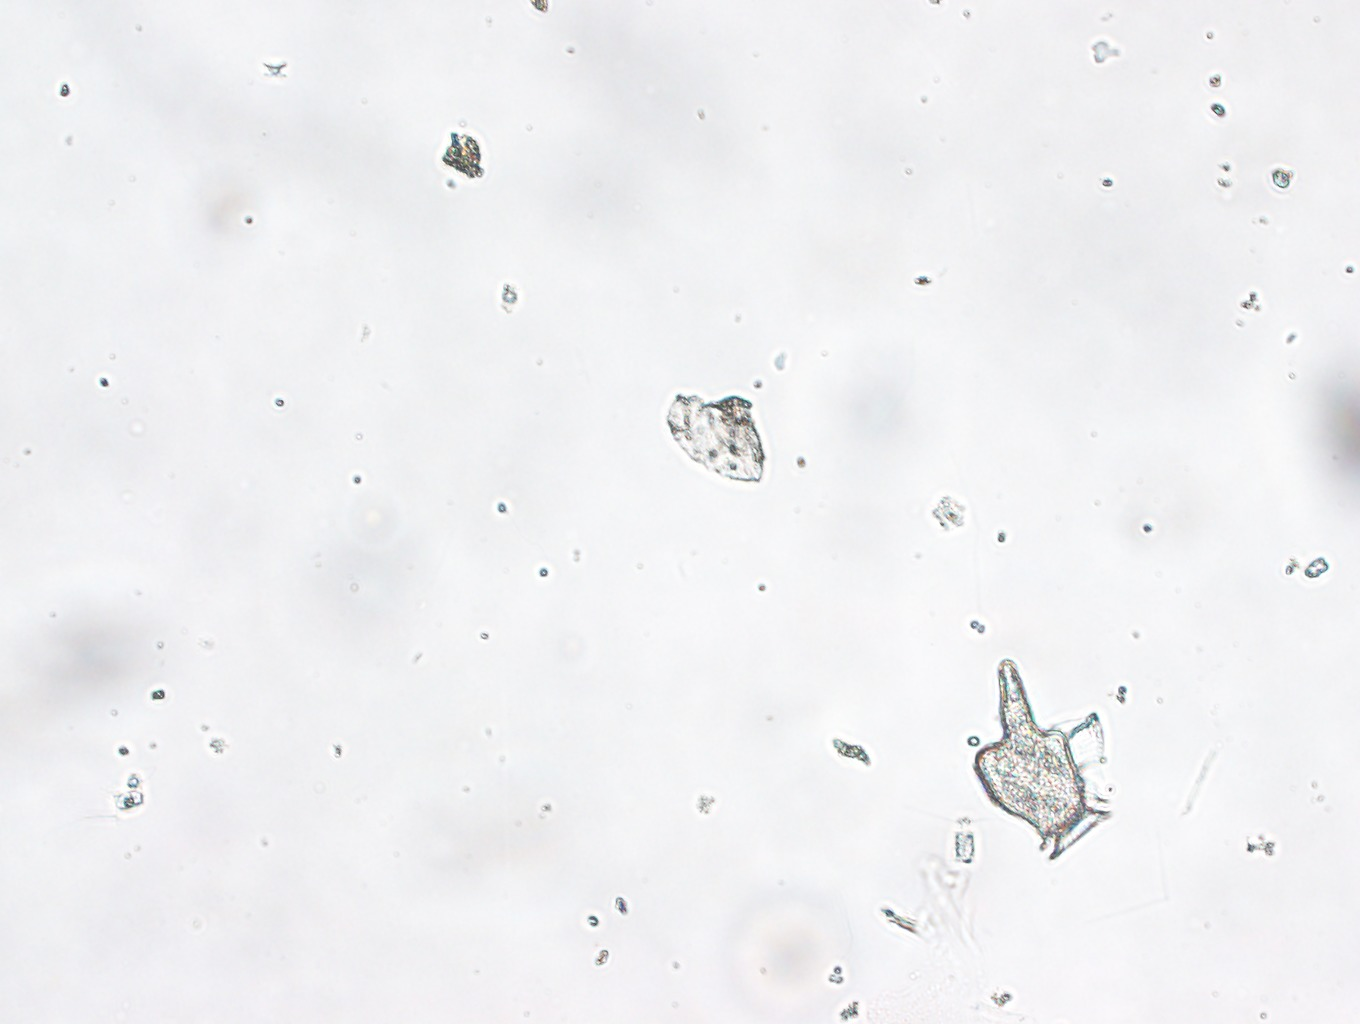dinophysis caudata: (968, 648, 1126, 861)
